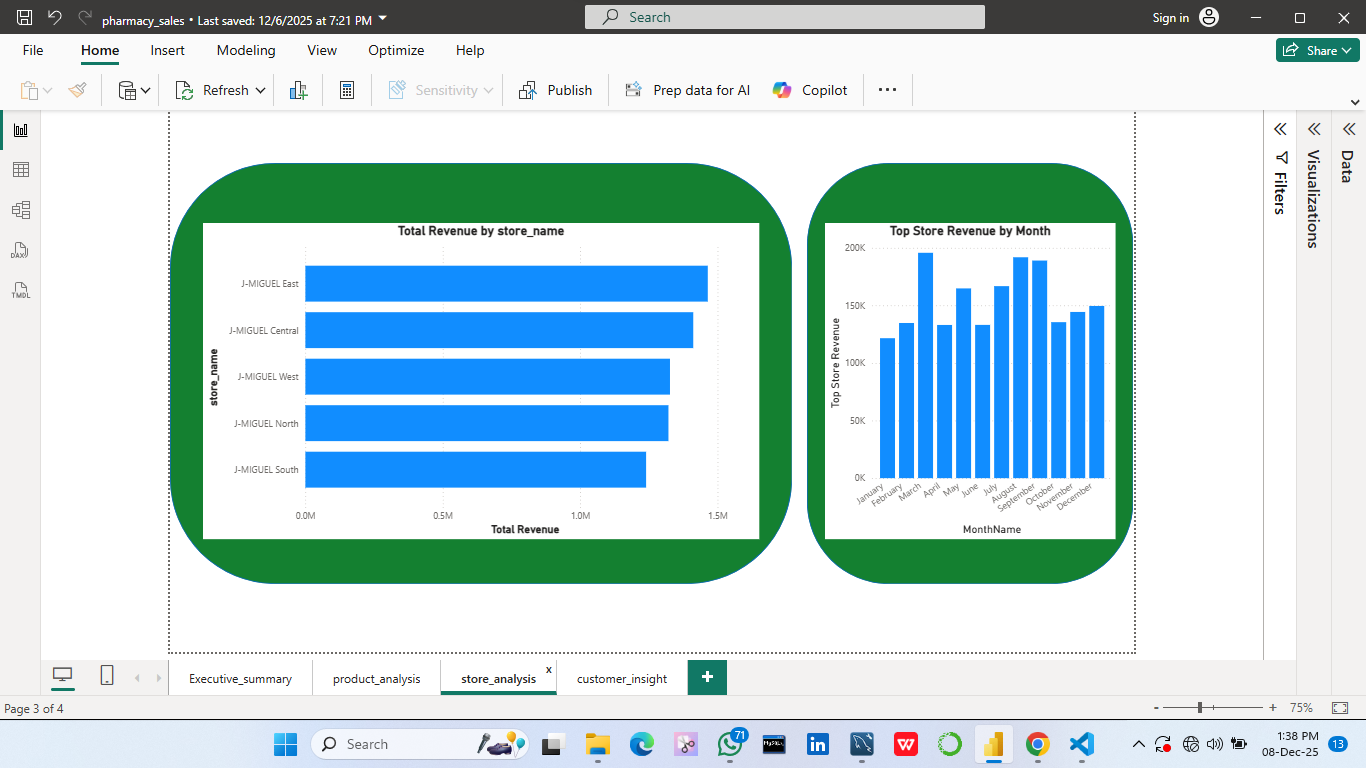

The dashboard page shown, as its layout file describes it:
{"tool":"powerbi","page":{"name":"store_analysis","canvas":[1280,720],"ordinal":2},"visuals":[{"type":"shape","box":[846.6,70.6,433.4,559.4],"z":0},{"type":"shape","box":[0,70.6,826.5,559.4],"z":1000},{"type":"clusteredBarChart","fields":{"Category":["pharmacy_sales stores.store_name"],"Y":["pharmacy_sales sales.Total Revenue"]},"box":[43.7,149.5,739.1,419.9],"z":2000},{"type":"clusteredColumnChart","title":"Top Store Revenue by Month","fields":{"Y":["pharmacy_sales stores.Top Store Revenue"],"Category":["pharmacy_sales sales.MonthName"]},"box":[870.1,149.5,386.4,419.9],"z":3000}]}

Visuals, with their boxes on the page's 1280x720 design canvas (x1, y1, x2, y2). These are canvas units, not pixel positions in the 1366x768 screenshot, which may show the page scaled, cropped or inside an application window:
shape: pyautogui.locateOnScreen(847, 71, 1280, 630)
shape: pyautogui.locateOnScreen(0, 71, 826, 630)
clusteredBarChart - pharmacy_sales stores.store_name x pharmacy_sales sales.Total Revenue: pyautogui.locateOnScreen(44, 150, 783, 569)
"Top Store Revenue by Month" clusteredColumnChart: pyautogui.locateOnScreen(870, 150, 1256, 569)
